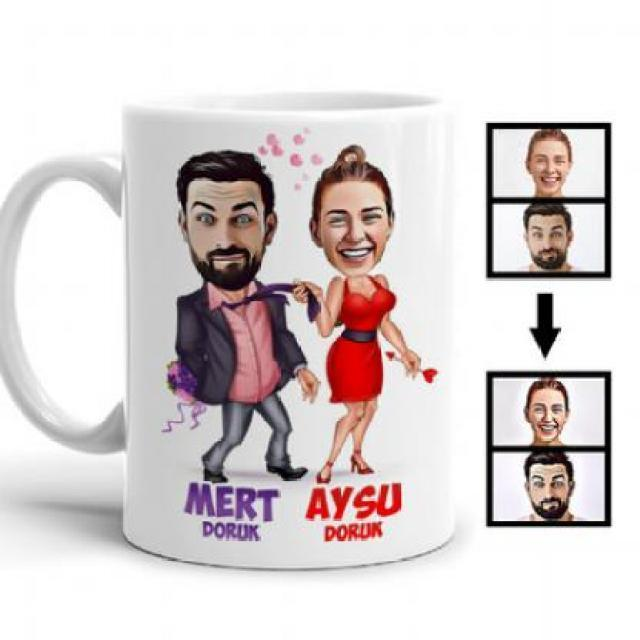taza: (11, 70, 474, 570)
